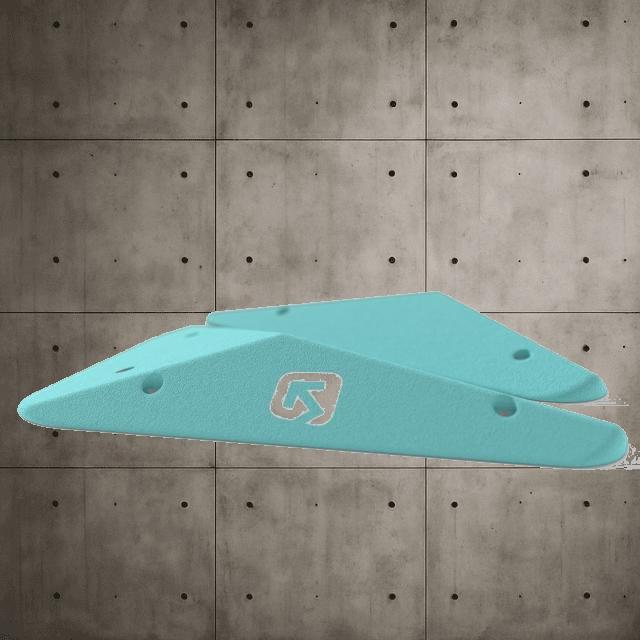Volume: (16, 323, 628, 471), (206, 288, 608, 406)
